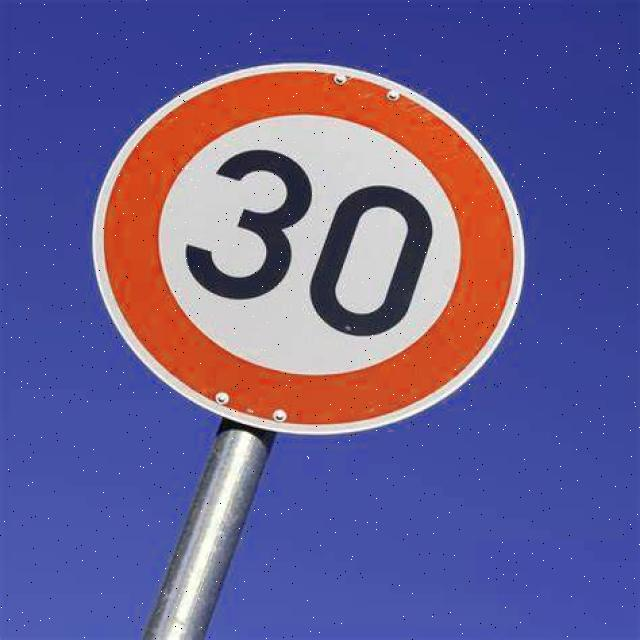speedlimit_30: (96, 60, 524, 441)
